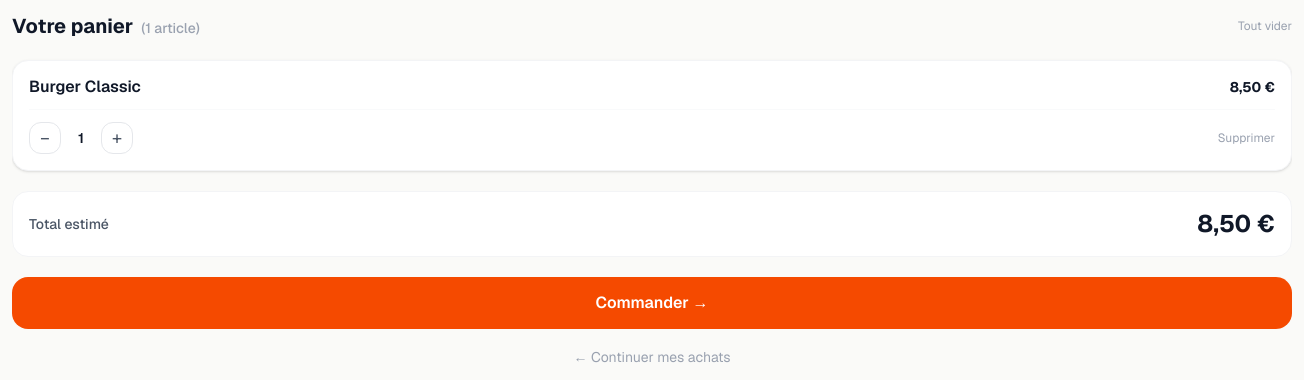
it: Panier › bouton "Diminuer" à quantité 1 → item supprimé
Expected: the text "Burger Classic" is shown, [29,77,141,97]
Click the button named "Diminuer" at (45, 138), box [29,122,61,154]
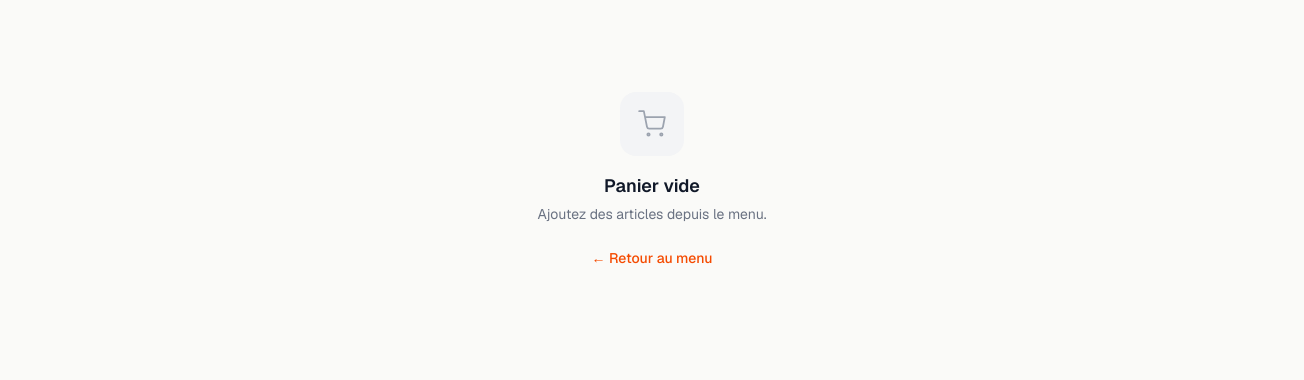
Result: the text "Panier vide" is shown at [604,172,700,200]
